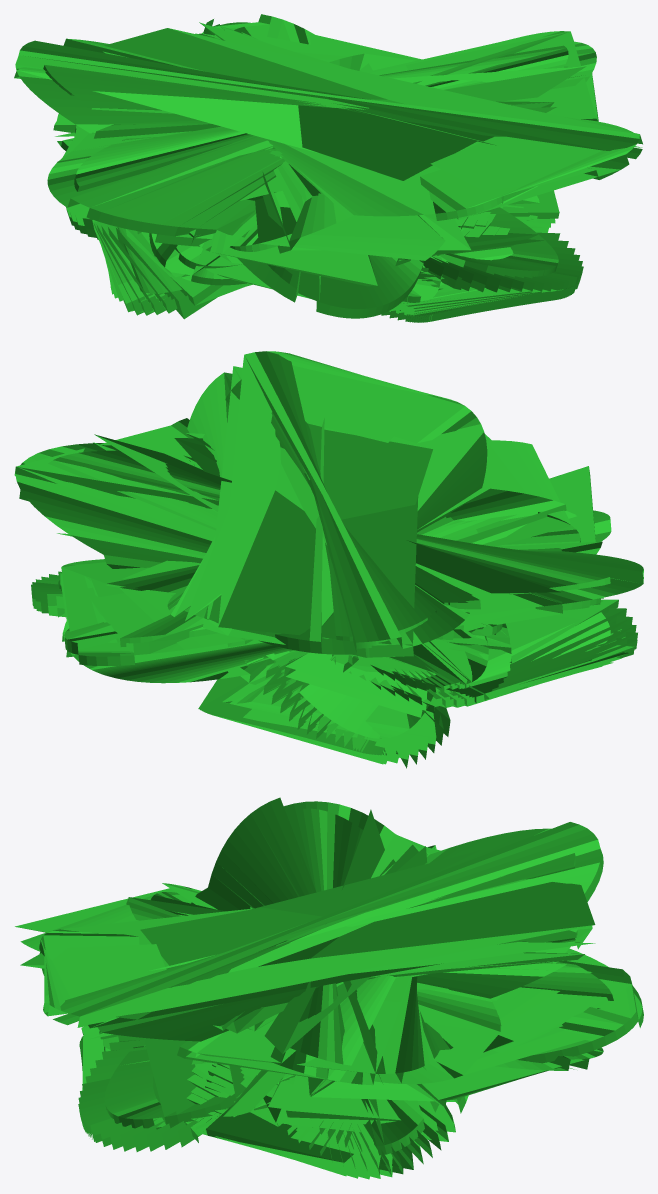
Rendered from react24.glb.
3 renders of one model, top to bottom at view 1: azimuth 30°, elevation 25°; view 2: azimuth 150°, elevation 25°; view 3: azimuth 270°, elevation 25°, orthographic. The views are drawn at different scales.
Parts seen in each view (by area): view 1: Curve; view 2: Curve; view 3: Curve.
Part boxes in pixels (x1=…): Curve: x1=14, y1=14, x2=642, y2=322; Curve: x1=14, y1=351, x2=643, y2=768; Curve: x1=15, y1=797, x2=643, y2=1179.
Size of the model in its own units: 0.7009 by 0.1816 by 0.6627.
